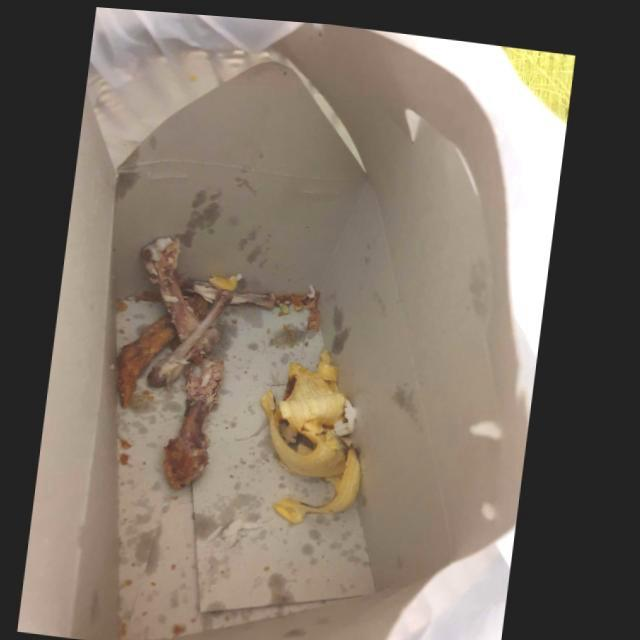left_over_food: (122, 234, 288, 487)
